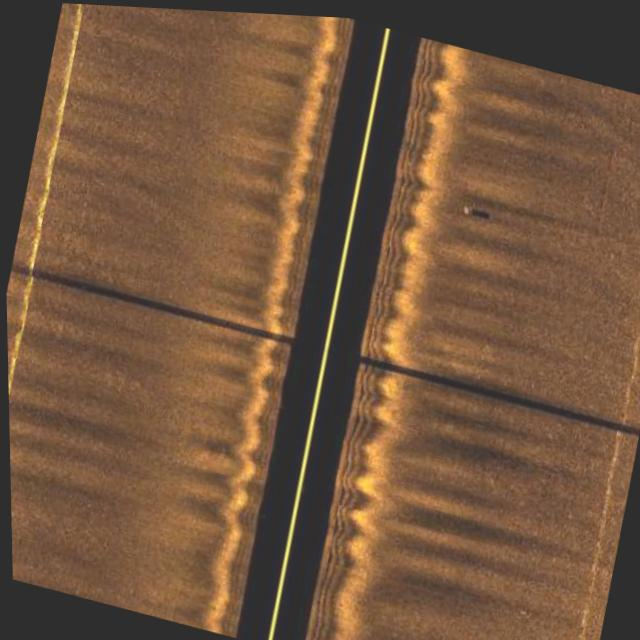mine: (456, 192, 495, 218)
